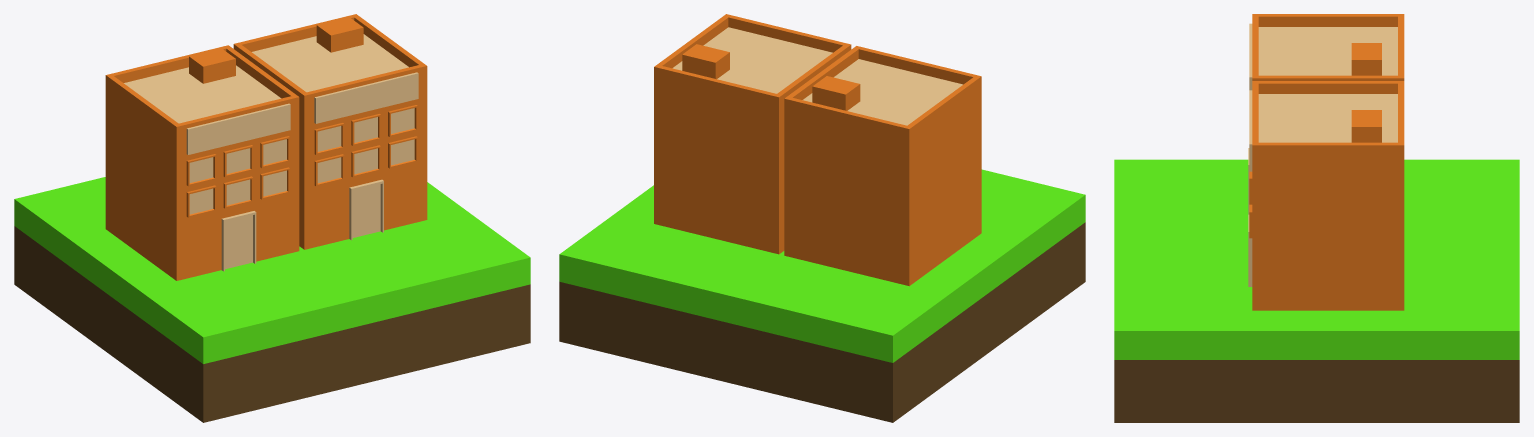
File: Bricks16.glb
3 views of the same model, side by side, from view 1: azimuth 30°, elevation 25°; view 2: azimuth 150°, elevation 25°; view 3: azimuth 270°, elevation 25° (orthographic). The views are drawn at different scales.
Parts seen in each view (by area): view 1: Cube, Brick16; view 2: Cube, Brick16; view 3: Cube, Brick16.
Part boxes in pixels (x1=…): Cube: x1=14, y1=177, x2=530, y2=422; Brick16: x1=105, y1=14, x2=427, y2=280; Cube: x1=559, y1=169, x2=1085, y2=422; Brick16: x1=654, y1=14, x2=981, y2=286; Cube: x1=1114, y1=159, x2=1519, y2=422; Brick16: x1=1248, y1=14, x2=1404, y2=310.
Bounding box in the file's own units: 2 × 1.45 × 2.
